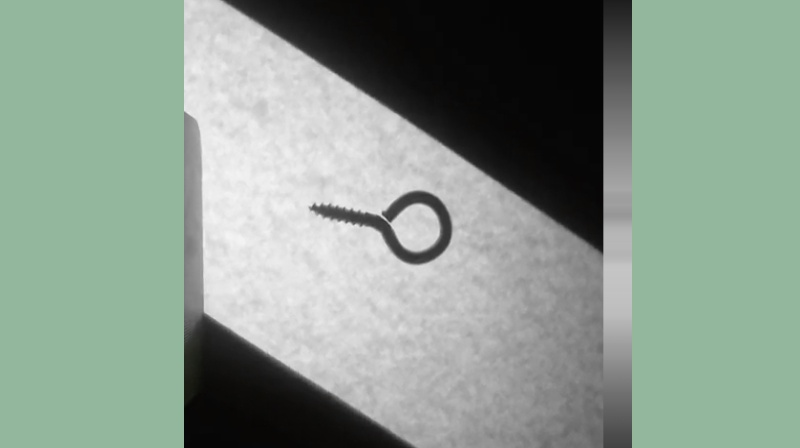O001: (304, 185, 452, 269)
